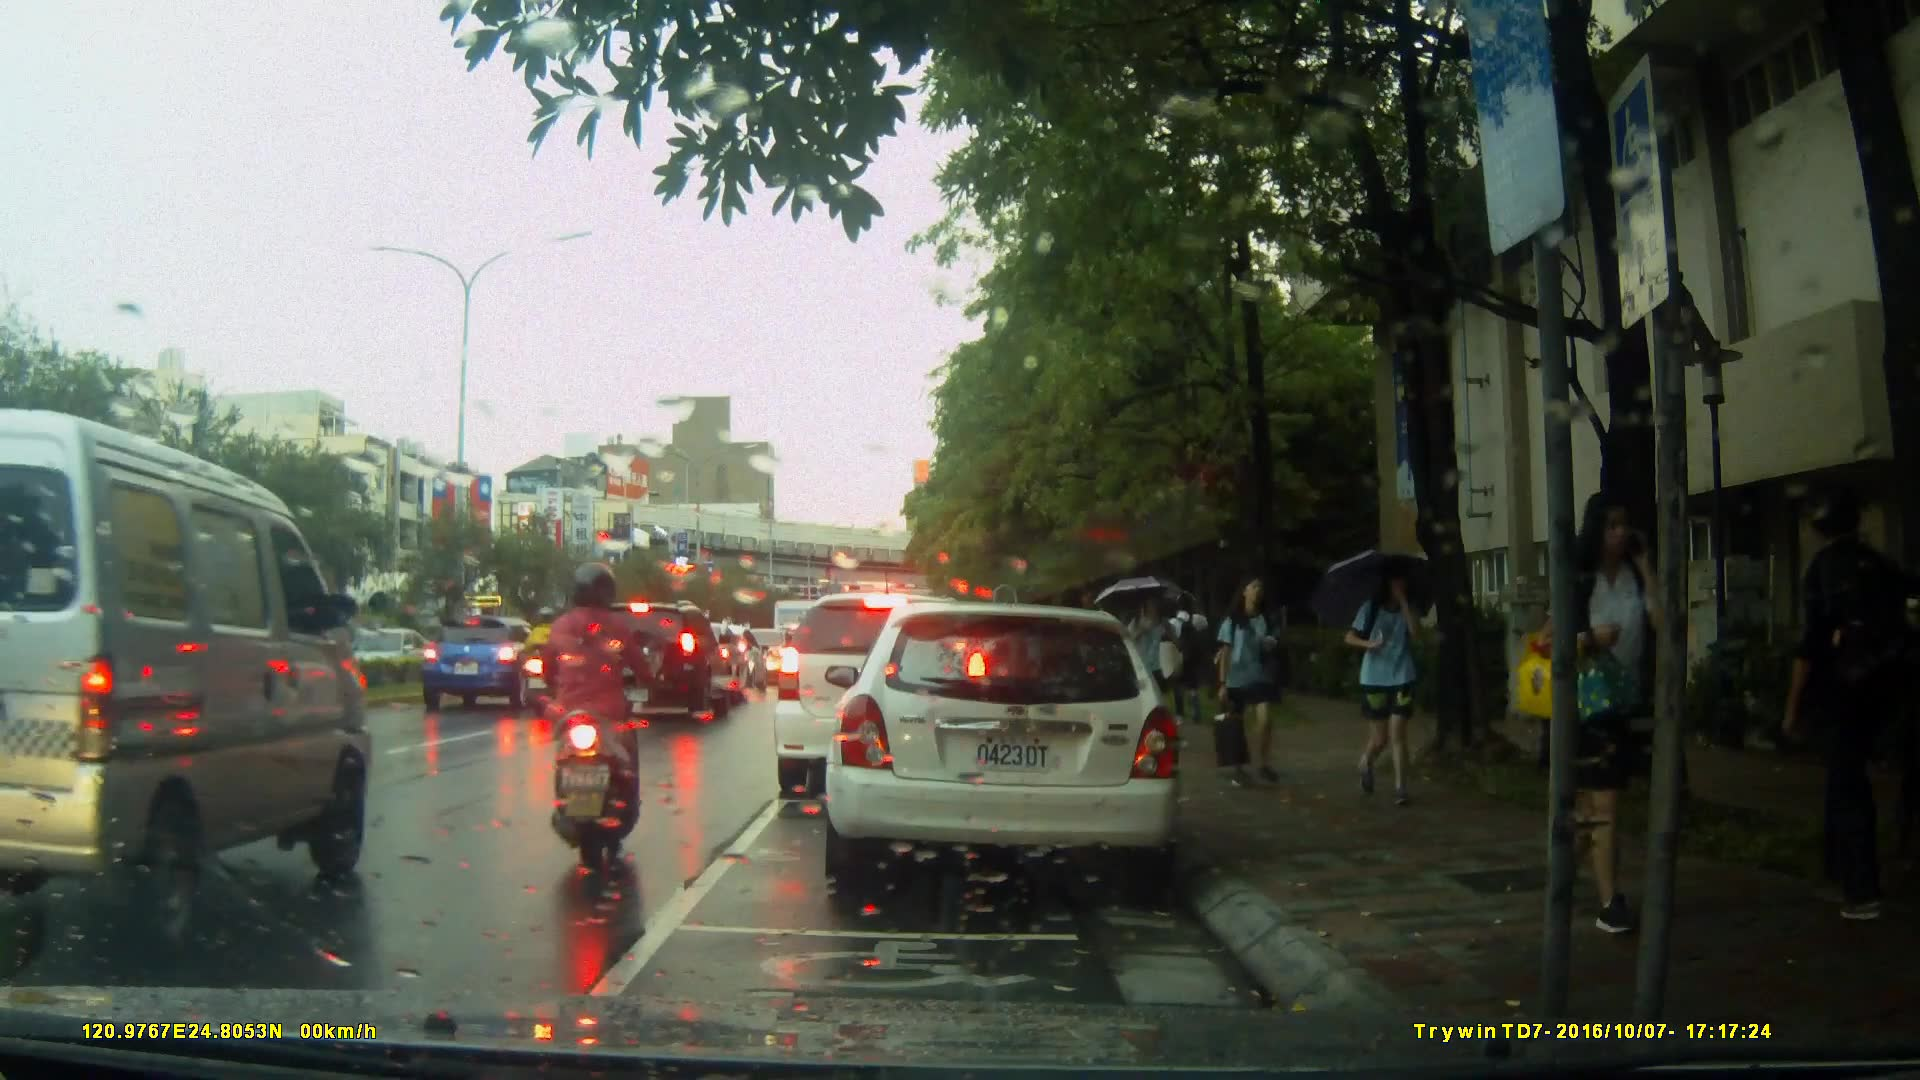pedestrian: (1551, 475, 1681, 923), (1791, 486, 1890, 924), (1335, 551, 1425, 810), (1186, 562, 1271, 777)
rider: (524, 554, 638, 871), (528, 606, 573, 705)
vehicle: (1, 408, 378, 956), (815, 593, 1204, 909), (771, 590, 994, 802), (573, 602, 736, 725), (421, 617, 564, 710)
